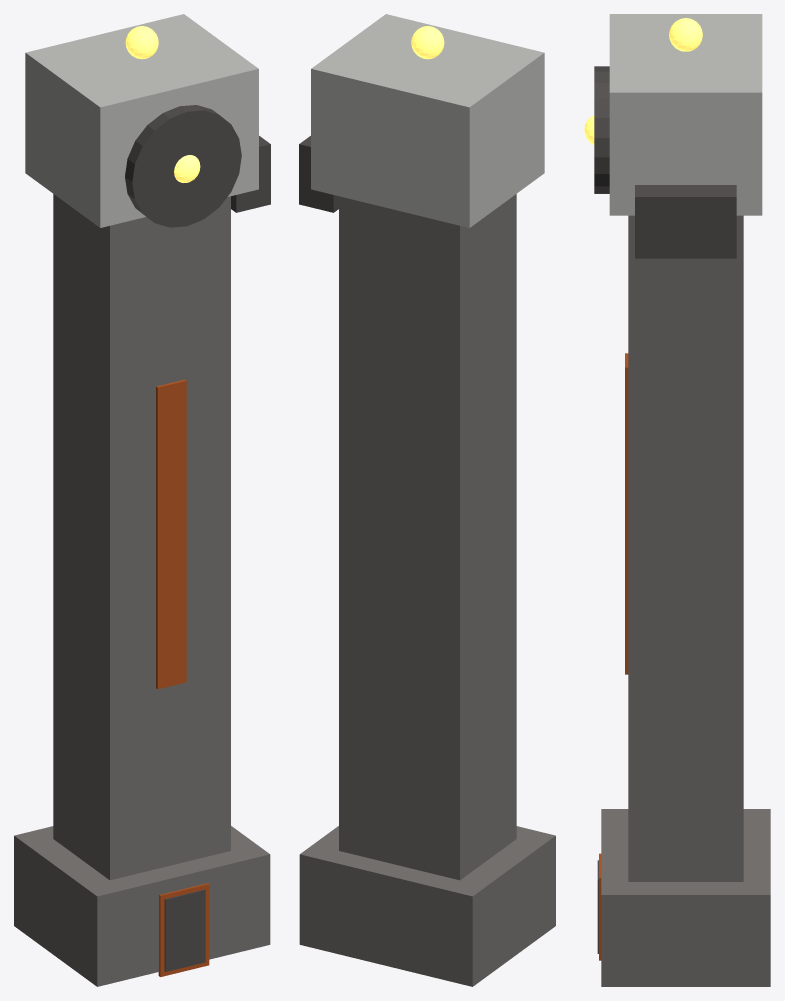
Rendered from radio_mast_script.glb.
The picture shows the model from 3 angles, left to right: view 1: azimuth 30°, elevation 25°; view 2: azimuth 150°, elevation 25°; view 3: azimuth 270°, elevation 25°; orthographic projection.
Parts seen in each view (by area): view 1: Cube.003, Cube.004, Cube, Cylinder, Cube.006, Cube.002, Cube.001, Cube.005, Sphere.001, Sphere; view 2: Cube.003, Cube.004, Cube, Cube.005, Sphere.001; view 3: Cube.003, Cube.004, Cube, Cube.005, Cylinder, Cube.006, Sphere.001.
Part boxes in pixels (<box>): Cube.003: <box>53,194,230,880</box>; Cube.004: <box>25,14,258,227</box>; Cube: <box>14,826,270,986</box>; Cylinder: <box>125,105,241,227</box>; Cube.006: <box>156,379,186,689</box>; Cube.002: <box>164,889,205,971</box>; Cube.001: <box>158,883,209,976</box>; Cube.005: <box>231,136,270,212</box>; Sphere.001: <box>125,26,158,59</box>; Sphere: <box>174,155,200,182</box>; Cube.003: <box>339,194,516,880</box>; Cube.004: <box>311,14,544,227</box>; Cube: <box>299,826,555,986</box>; Cube.005: <box>299,136,338,212</box>; Sphere.001: <box>411,26,444,59</box>; Cube.003: <box>628,215,743,881</box>; Cube.004: <box>609,14,762,215</box>; Cube: <box>601,809,770,986</box>; Cube.005: <box>635,185,736,258</box>; Cylinder: <box>594,66,609,193</box>; Cube.006: <box>625,353,628,674</box>; Sphere.001: <box>669,18,702,51</box>.
Size of the model in its own units: 6.6 by 30.25 by 5.5.
